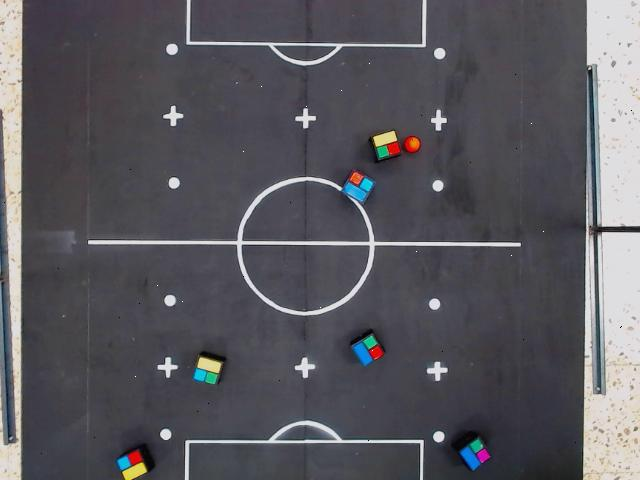robot: (340, 167, 378, 206), (348, 332, 388, 369), (457, 435, 494, 473), (370, 128, 404, 163), (191, 353, 225, 388), (115, 448, 148, 480)
